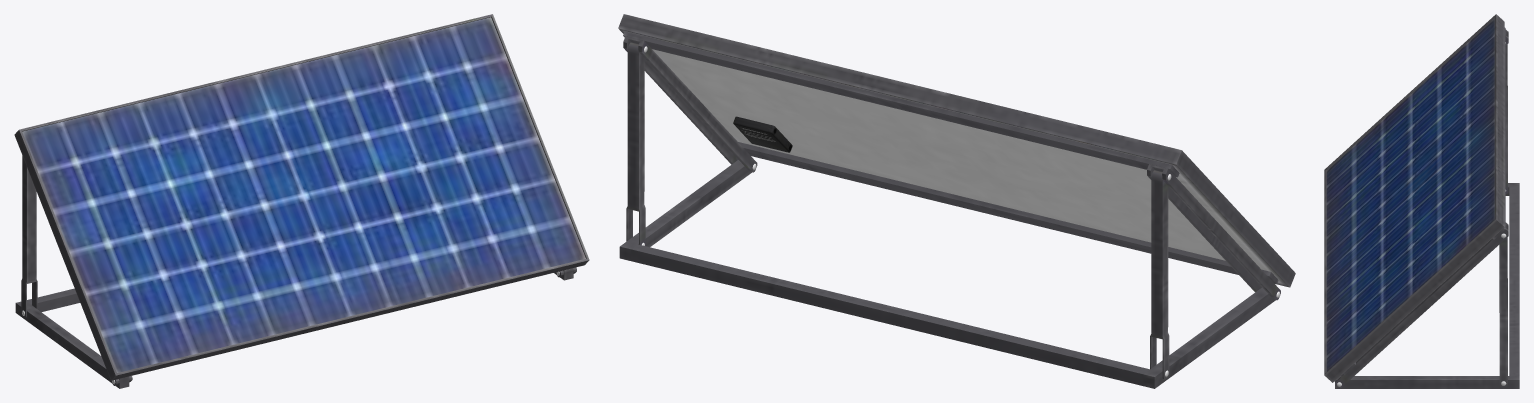
Rendered from solar_panel_optimised.glb.
3 renders of one model, left to right at view 1: azimuth 30°, elevation 25°; view 2: azimuth 150°, elevation 25°; view 3: azimuth 270°, elevation 25°, orthographic. The views are drawn at different scales.
Visible parts, largest first — view 1: part0; view 2: part0; view 3: part0.
Boxes of the visible parts, left/top/right/bottom form: part0: left=14, top=14, right=589, bottom=388; part0: left=618, top=14, right=1295, bottom=388; part0: left=1324, top=14, right=1519, bottom=388.
Bounding box in the file's own units: 2 × 0.7882 × 0.8039.
1 material, 1 textured.
